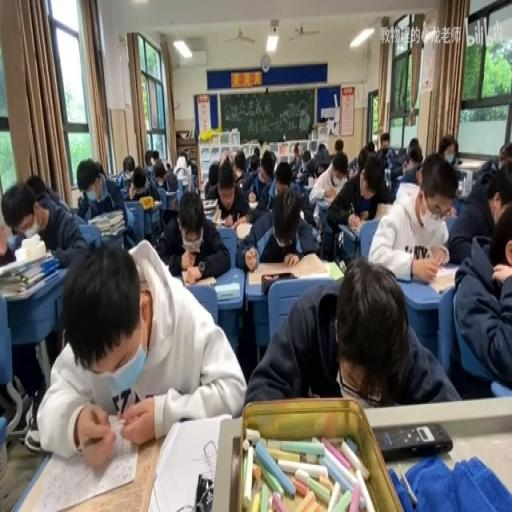calculator: (28, 418, 146, 512), (150, 412, 230, 512), (246, 259, 296, 284), (348, 209, 386, 238), (290, 252, 329, 278), (426, 263, 458, 293), (336, 220, 356, 260), (254, 224, 272, 258), (182, 272, 216, 288), (214, 282, 240, 300), (326, 260, 344, 282), (234, 219, 252, 240), (444, 214, 458, 238), (454, 165, 467, 185), (200, 199, 216, 213), (314, 194, 330, 208), (211, 205, 222, 222), (177, 174, 189, 186), (384, 166, 390, 190), (248, 199, 258, 209), (394, 172, 405, 181), (306, 176, 314, 188), (198, 189, 206, 199)
paper: (39, 236, 243, 458), (247, 258, 461, 408), (366, 154, 452, 282), (3, 172, 94, 267), (241, 182, 321, 270), (446, 158, 510, 266), (157, 186, 229, 279), (78, 156, 134, 248), (244, 148, 274, 205), (122, 161, 158, 202), (302, 142, 332, 181), (397, 138, 422, 181), (374, 132, 397, 168), (0, 219, 17, 267), (471, 154, 500, 182), (290, 173, 311, 205), (437, 135, 459, 164), (203, 161, 219, 199), (26, 175, 48, 199), (232, 148, 247, 181), (274, 162, 290, 189), (162, 169, 178, 192), (498, 142, 512, 165), (144, 148, 158, 166), (174, 154, 188, 172), (356, 148, 366, 171), (218, 146, 230, 165), (94, 159, 105, 178), (258, 141, 270, 158), (187, 159, 197, 178), (154, 170, 165, 186), (347, 160, 357, 176), (249, 155, 258, 172), (334, 136, 343, 150), (366, 140, 374, 154), (302, 154, 310, 168), (315, 165, 325, 176), (294, 141, 300, 158), (318, 142, 326, 151), (253, 145, 259, 157), (166, 159, 171, 168)
person: (373, 420, 453, 460), (194, 471, 214, 509), (138, 194, 154, 208)
